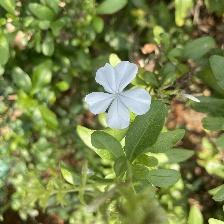chitrak: (86, 60, 152, 137)
